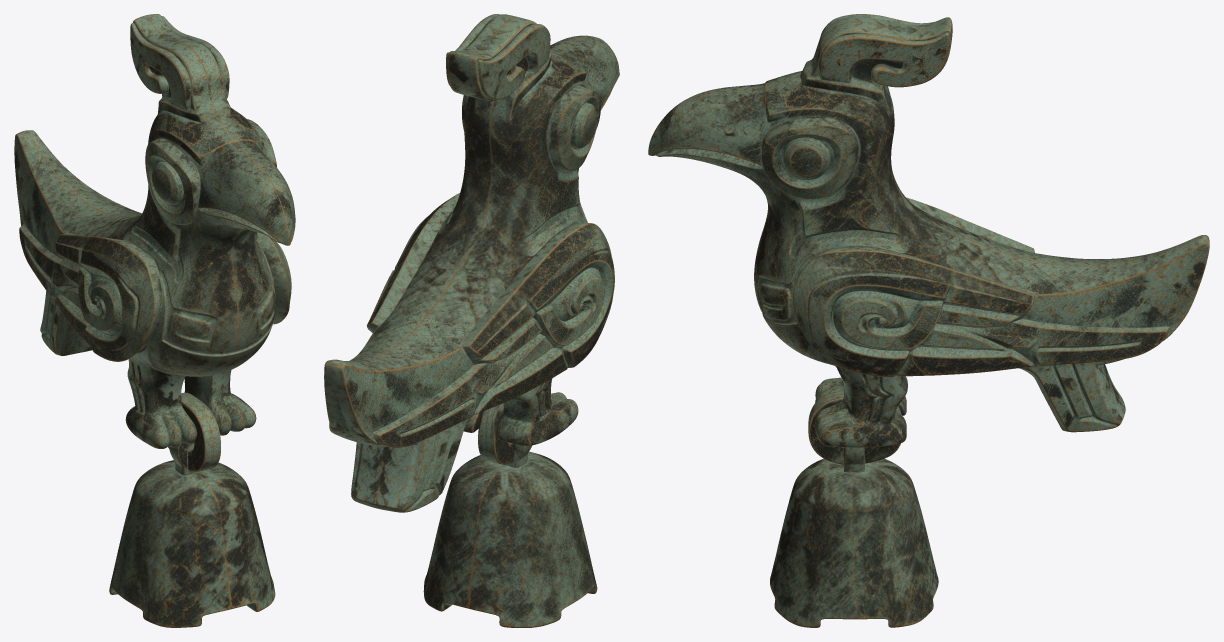
File: bronze-bird-bell.glb
3 views of the same model, side by side, from view 1: azimuth 30°, elevation 25°; view 2: azimuth 150°, elevation 25°; view 3: azimuth 270°, elevation 25° (orthographic). The views are drawn at different scales.
Bounding box in the file's own units: 0.6151 × 1.9 × 1.68.
1 material, 1 textured.
